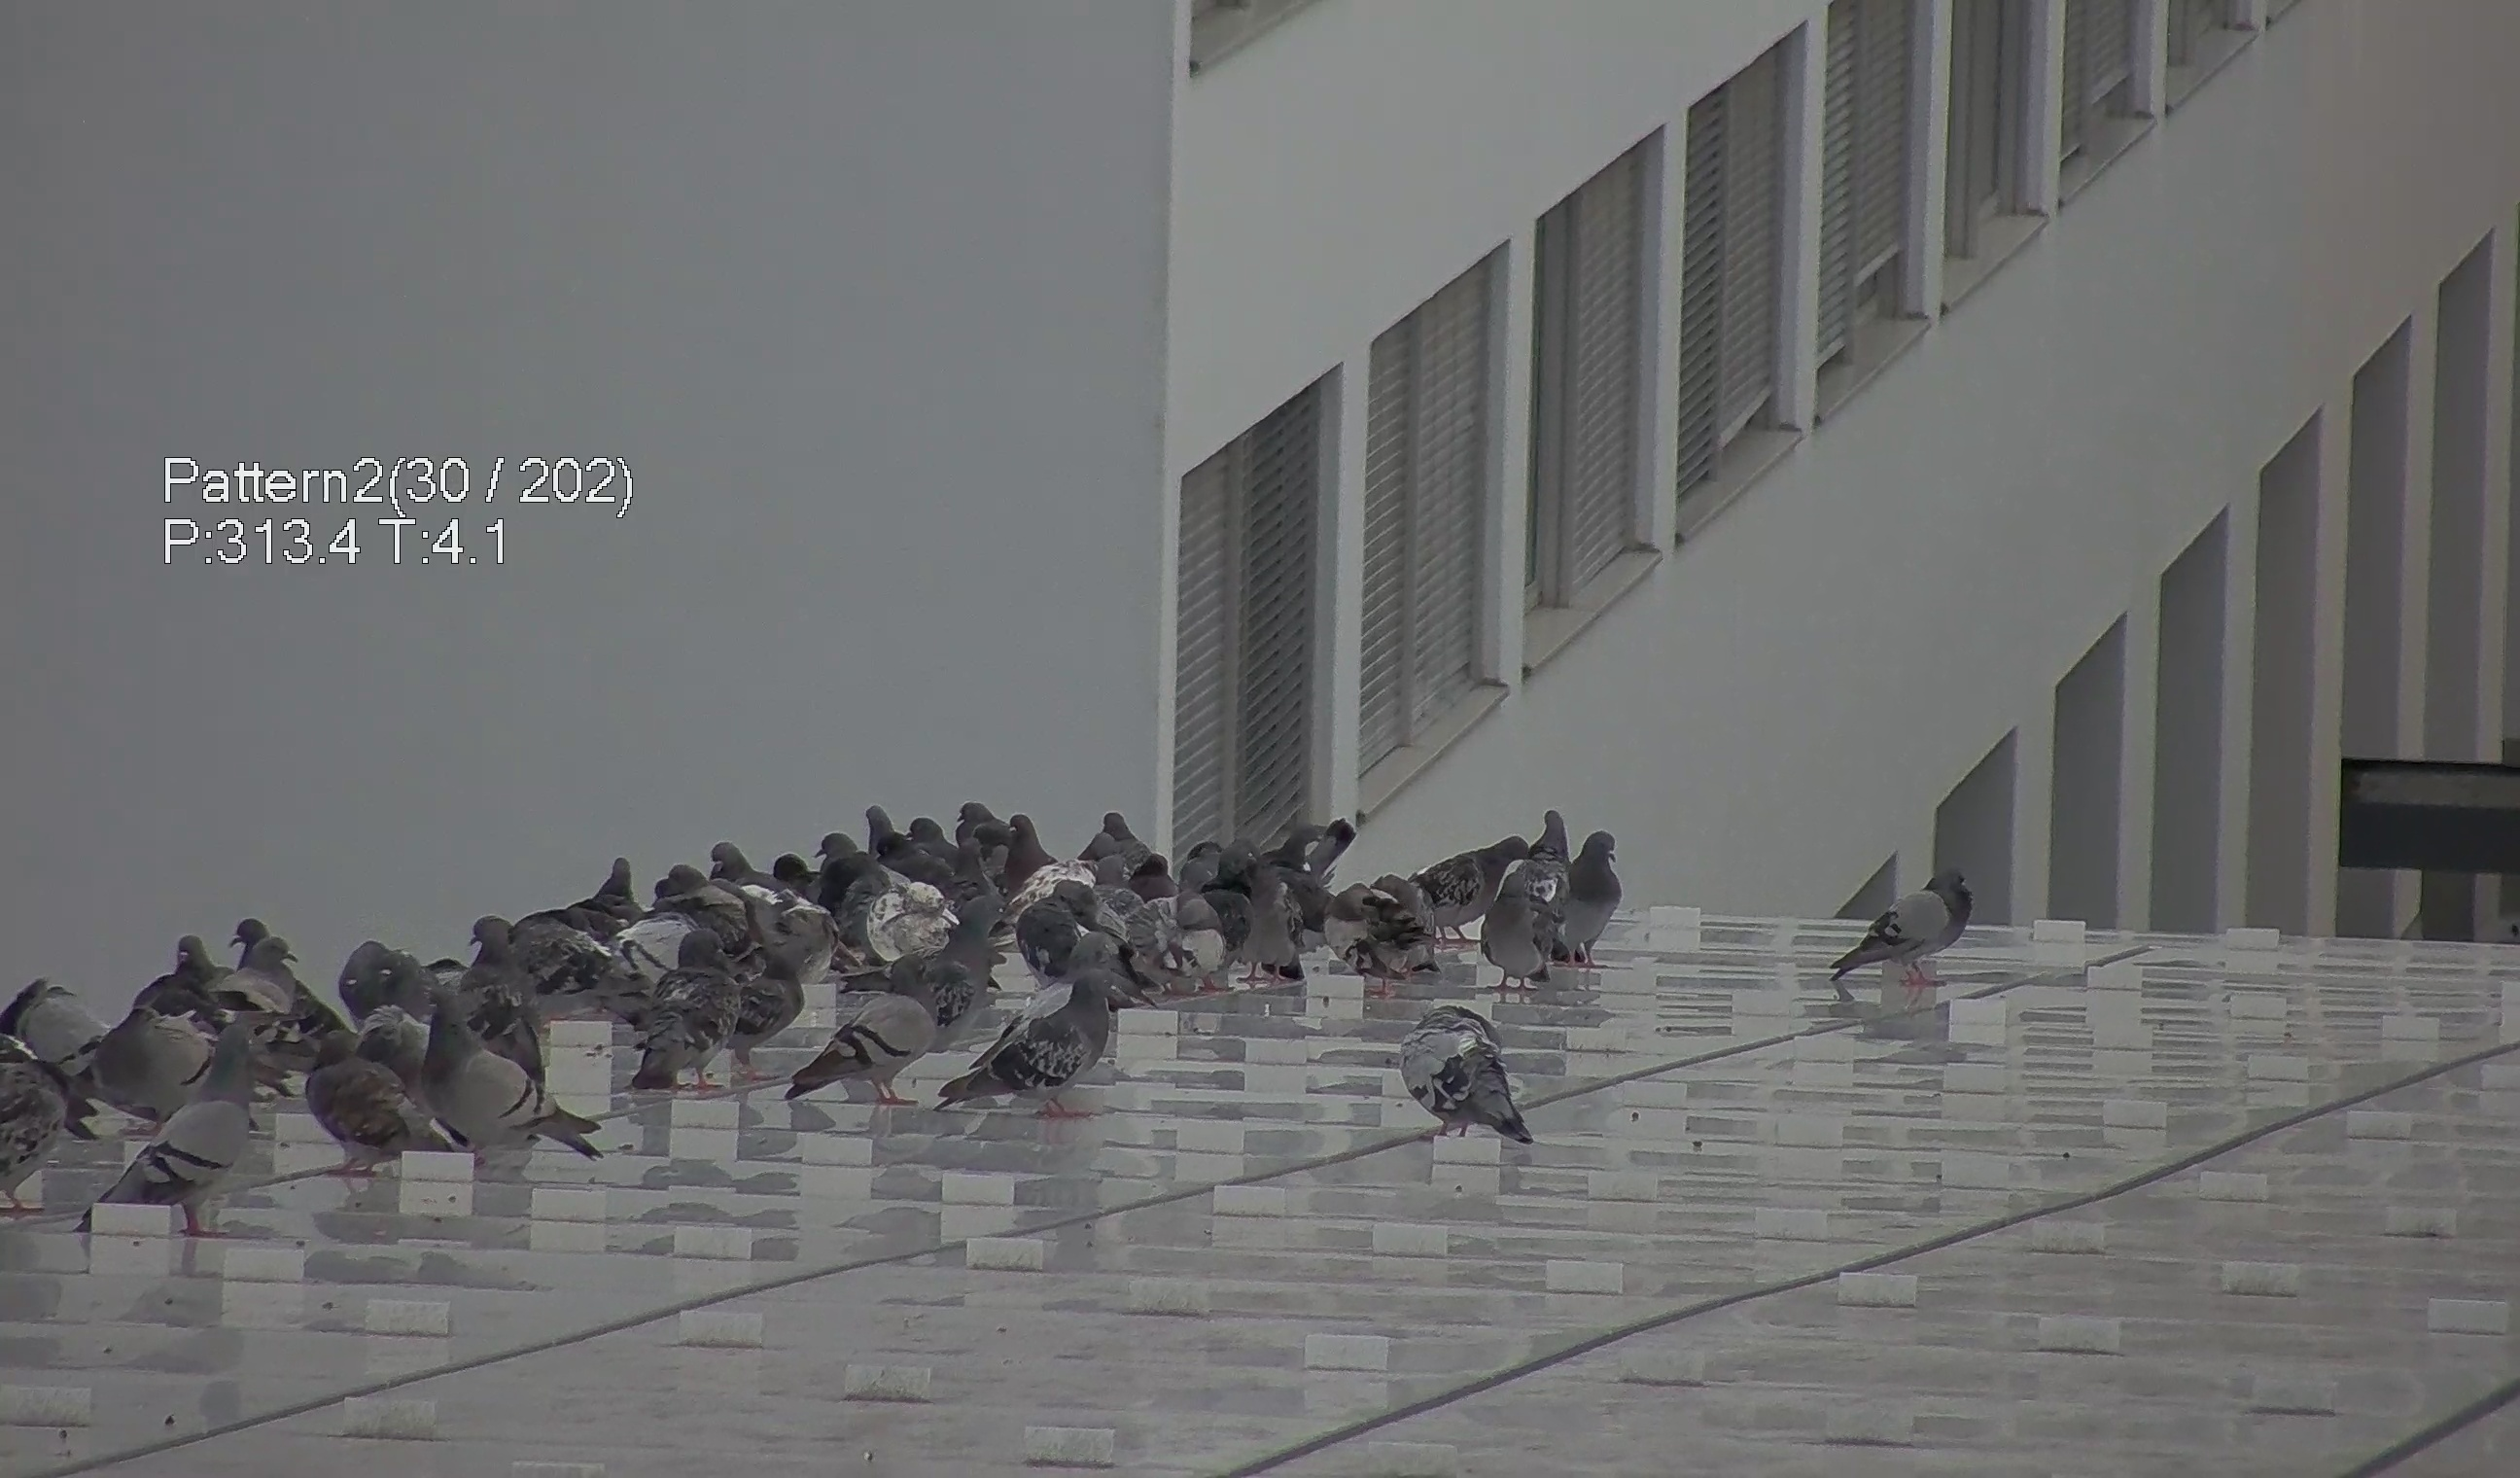Pigeon: (385, 996, 605, 1168), (100, 1019, 260, 1226), (950, 945, 1141, 1108), (1393, 1005, 1560, 1165), (804, 948, 946, 1100), (1843, 857, 1991, 992), (642, 929, 747, 1100), (1321, 874, 1456, 1003), (1477, 830, 1581, 996), (283, 1056, 424, 1170), (1544, 815, 1637, 966), (2, 1045, 81, 1205), (169, 931, 225, 996), (464, 899, 521, 964), (248, 929, 302, 996)
